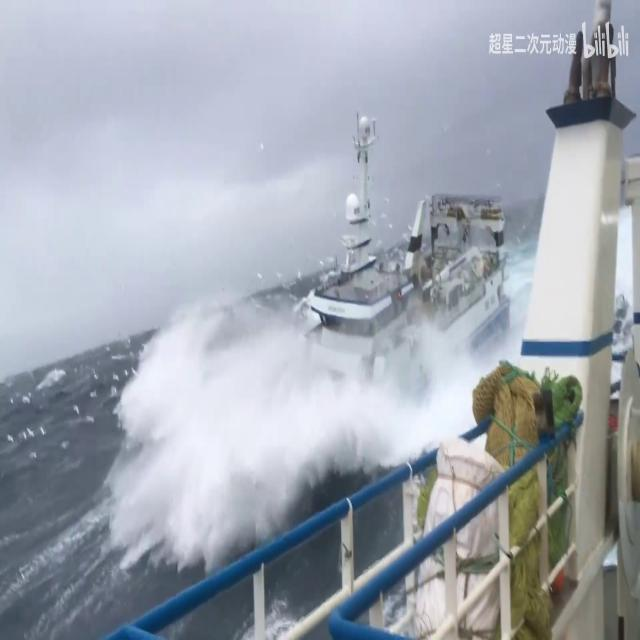houseboat: (259, 110, 506, 443)
